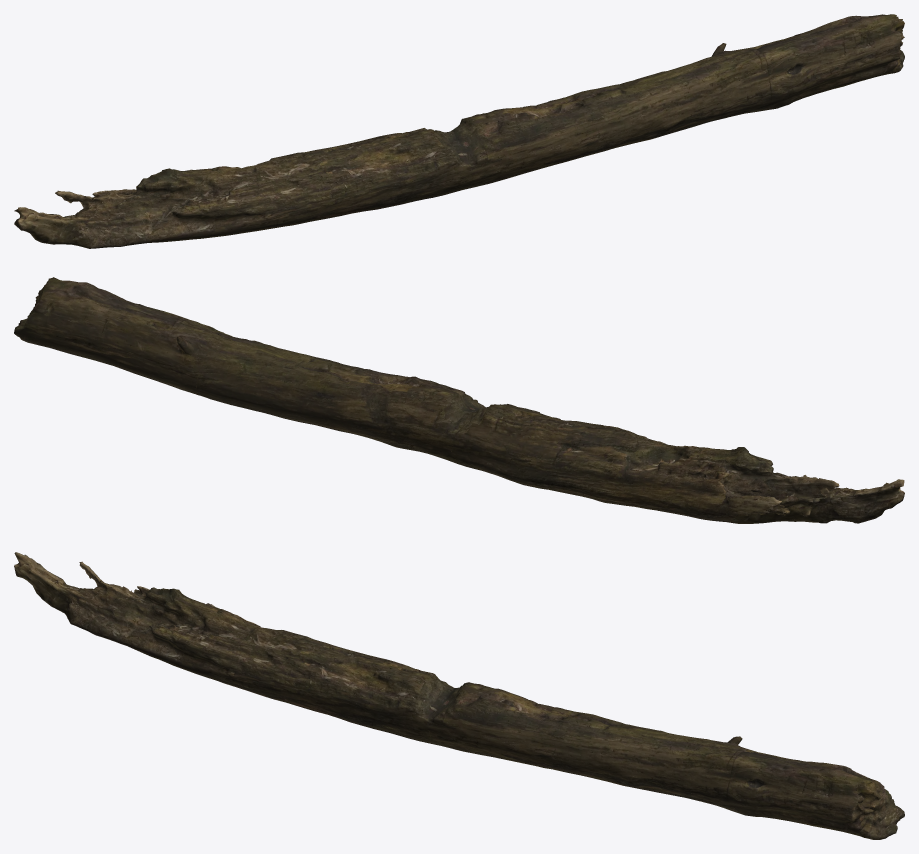
File: dead_tree_trunk_1k.glb
The picture shows the model from 3 angles, top to bottom: view 1: azimuth 30°, elevation 25°; view 2: azimuth 150°, elevation 25°; view 3: azimuth 330°, elevation 25°; orthographic projection.
Visible parts, largest first — view 1: deadlog; view 2: deadlog; view 3: deadlog.
Boxes of the visible parts, x1,y1,x2,y2 form: deadlog: [14, 14, 904, 248]; deadlog: [14, 277, 904, 523]; deadlog: [14, 552, 904, 839].
Bounding box in the file's own units: 3.05 × 0.2897 × 0.2772.
1 material, 1 textured.
